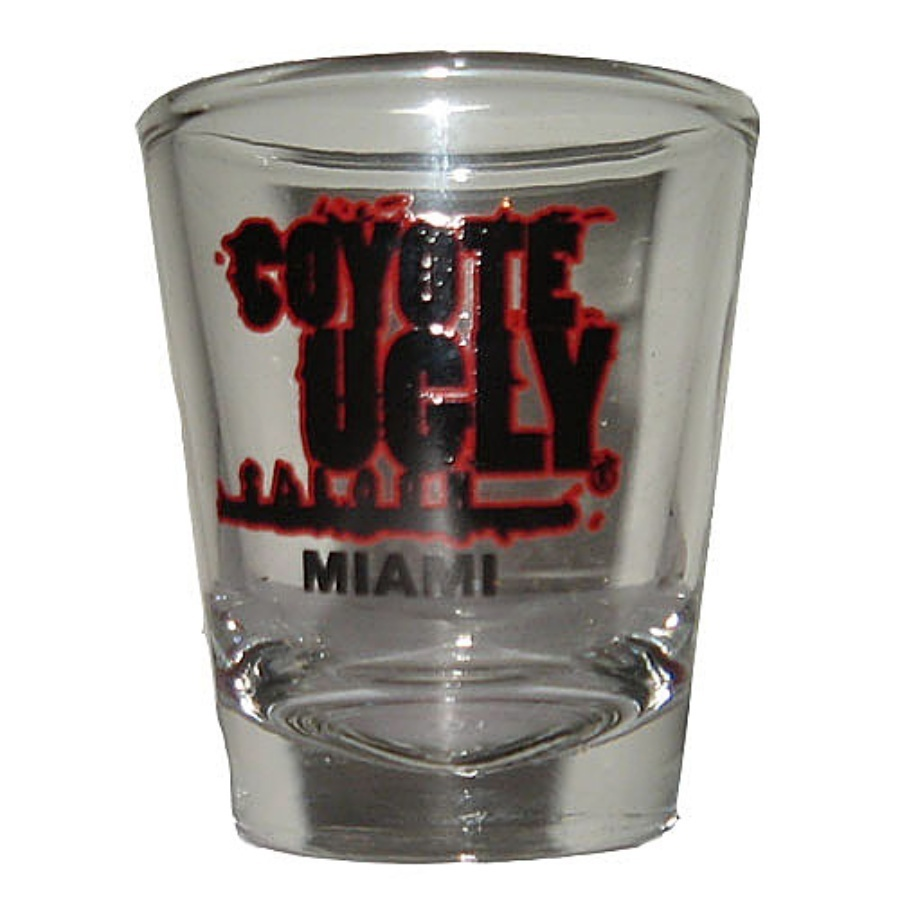whiskey: (149, 74, 749, 829)
